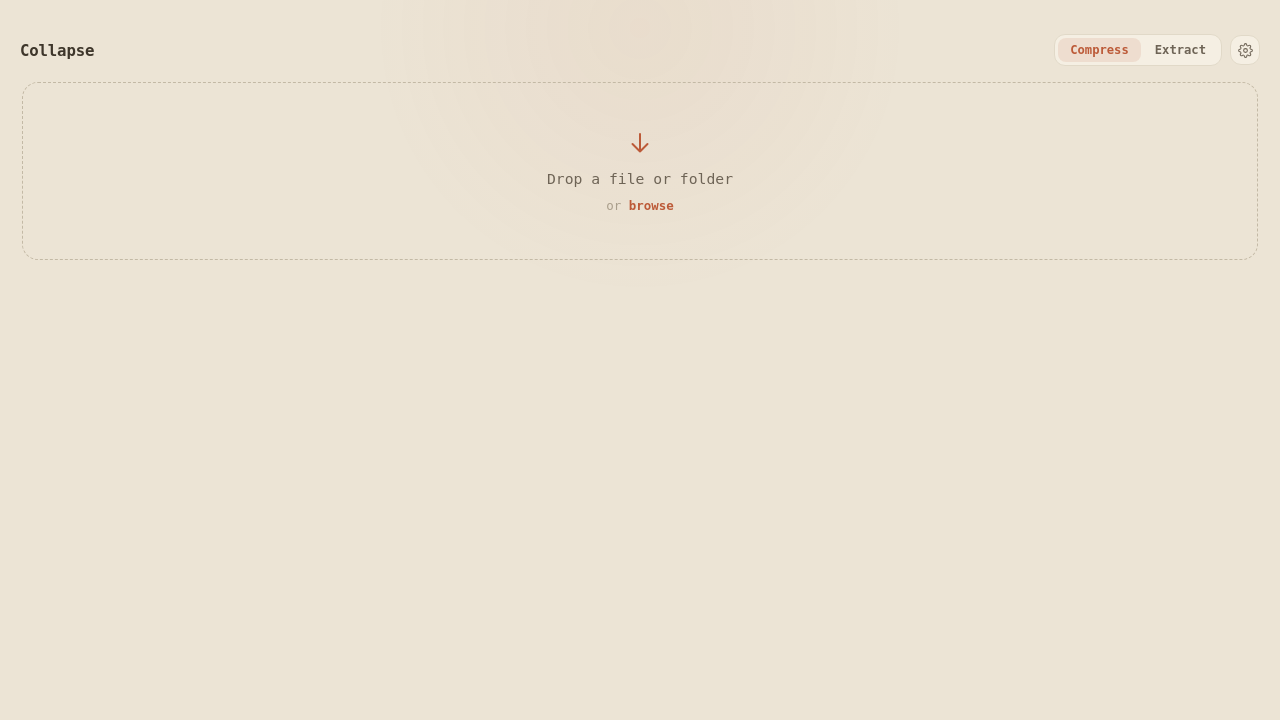
Test: App › says what the contents check can prove about a tar
This screenshot has width=1280, height=720.
Click the element with class "drop" at (640, 171), box [22,82,1258,260]
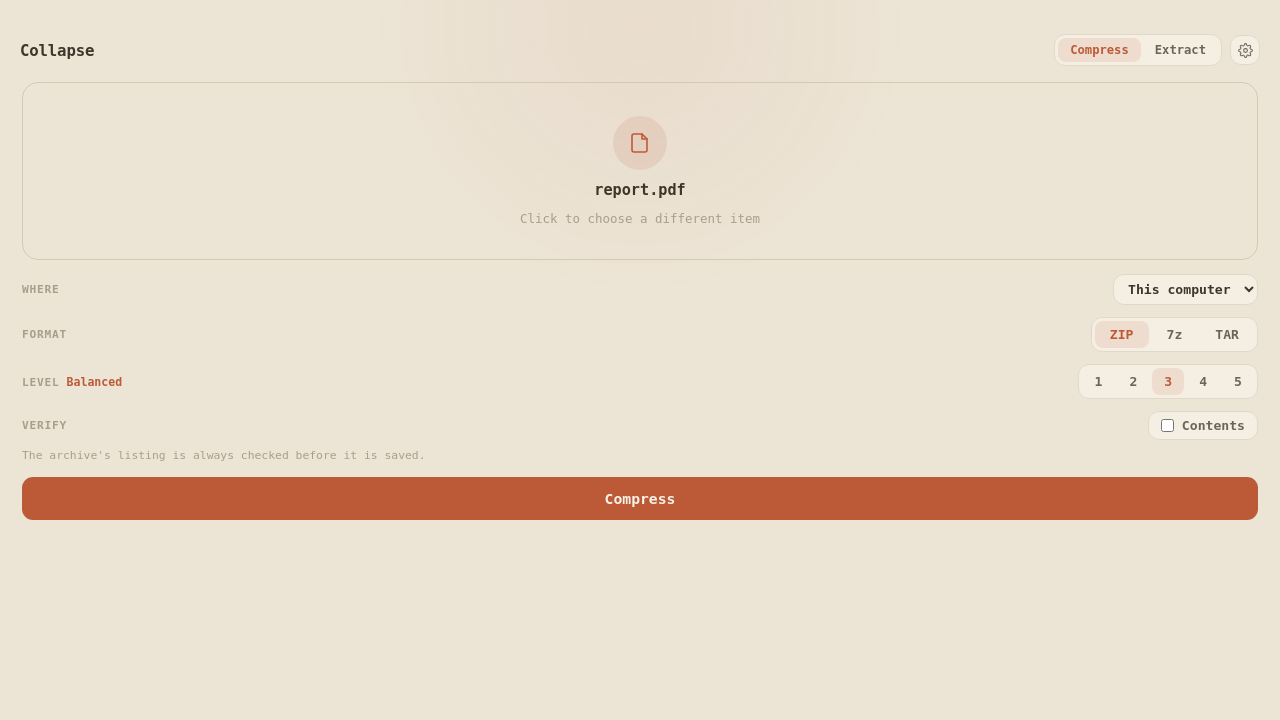
Click the checkbox labelled "Contents" at (1167, 426), box [1161,419,1174,432]
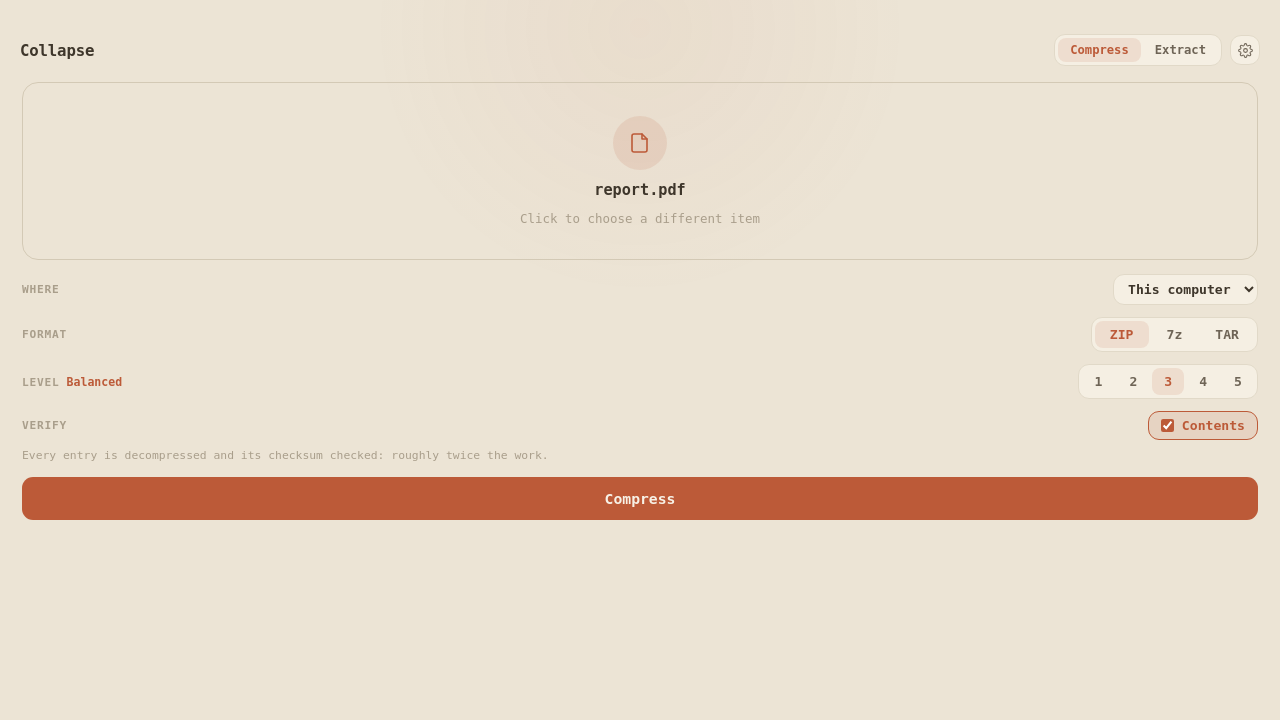
Expected: the text "its checksum checked" is shown, [22,448,549,462]
Click the button "TAR" at (1227, 334), box [1200,321,1254,348]
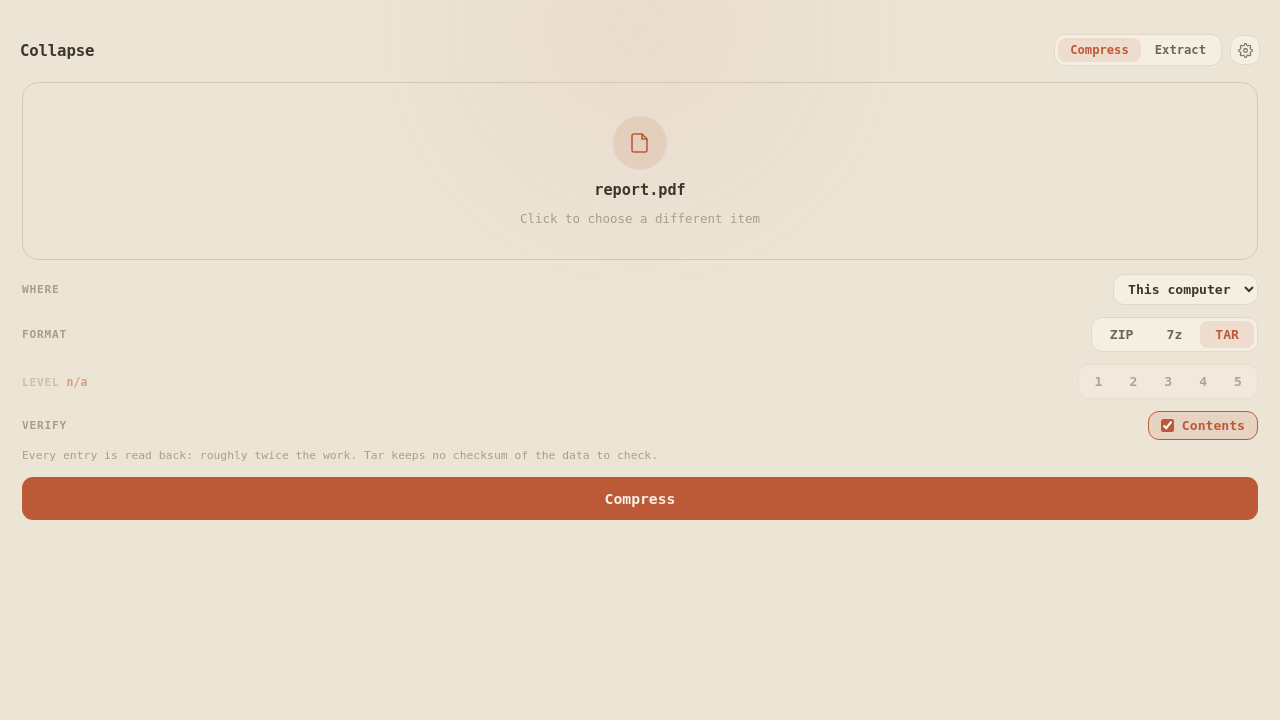
Expected: the text "Tar keeps no checksum of the data" is shown, [22,448,658,462]
Expected: the text "its checksum checked" is gone
